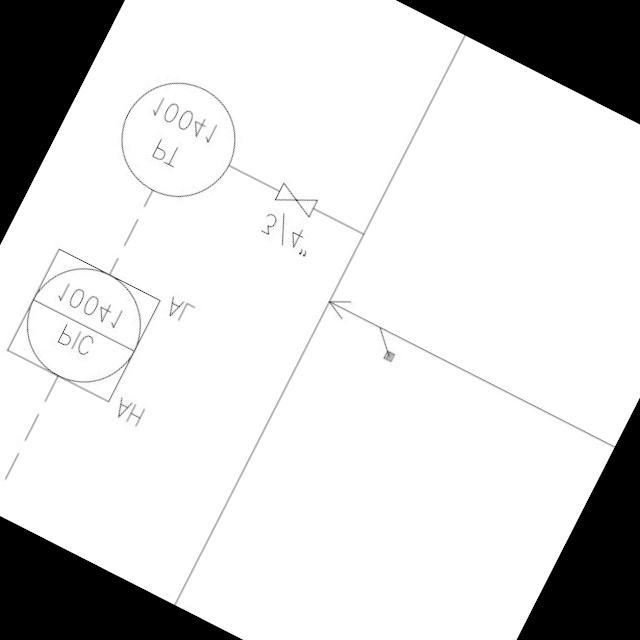GV: (269, 180, 321, 222)
